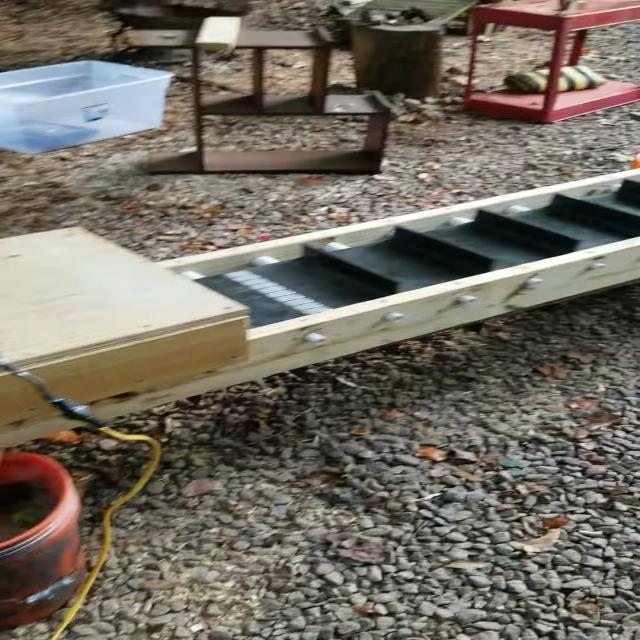Convoyeur: (0, 156, 640, 432)
